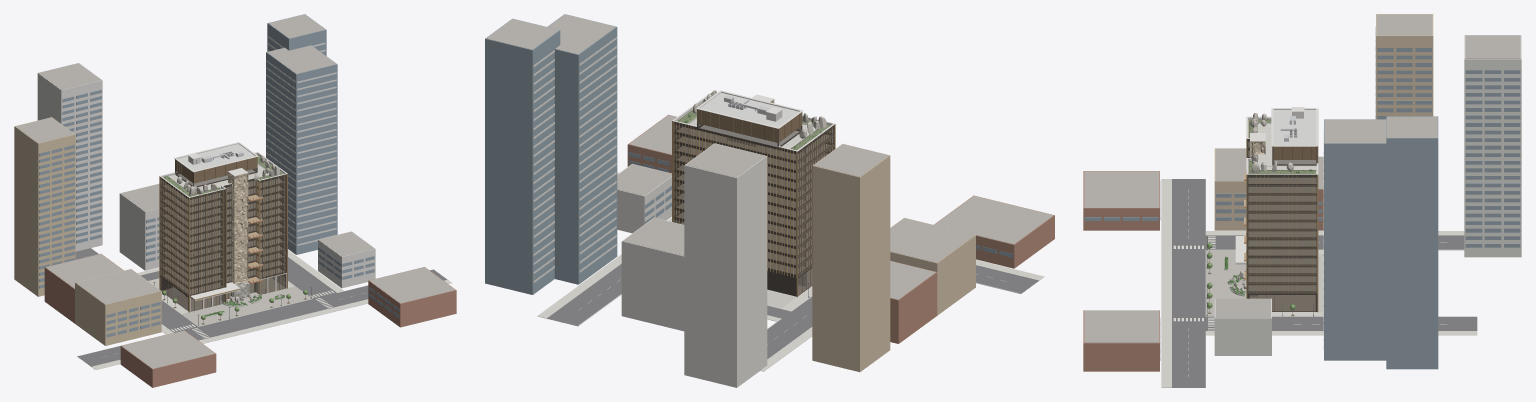
The model's file is clay-climbing-spine-clay-v007.glb.
The picture shows the model from 3 angles, left to right: view 1: azimuth 30°, elevation 25°; view 2: azimuth 150°, elevation 25°; view 3: azimuth 270°, elevation 25°; orthographic projection. The views are drawn at different scales.
Parts seen in each view (by area): view 1: CLAY_CTXGLASS, CLAY_WHITE, CLAY_CTXROOF, CLAY_TAN, CLAY_GLASS, CLAY_FLOOR, CLAY_BRONZE, CLAY_BRICK2, CLAY_ASPHALT, CLAY_SPANDREL, CLAY_FRAME, CLAY_PAVER (+7 smaller); view 2: CLAY_CTXGLASS, CLAY_WHITE, CLAY_TAN, CLAY_CTXROOF, CLAY_GLASS, CLAY_BRICK2, CLAY_FLOOR, CLAY_ASPHALT, CLAY_SPANDREL, CLAY_BRONZE, CLAY_FRAME, CLAY_PAVER (+3 smaller); view 3: CLAY_CTXGLASS, CLAY_CTXROOF, CLAY_WHITE, CLAY_ASPHALT, CLAY_GLASS, CLAY_FLOOR, CLAY_TAN, CLAY_BRICK2, CLAY_PAVER, CLAY_SPANDREL, CLAY_FRAME, CLAY_PLAZA (+7 smaller).
Part boxes in pixels (bbox=[...]): CLAY_CTXGLASS: bbox=[39, 14, 399, 337]; CLAY_WHITE: bbox=[37, 36, 375, 288]; CLAY_CTXROOF: bbox=[15, 14, 455, 368]; CLAY_TAN: bbox=[14, 117, 161, 345]; CLAY_GLASS: bbox=[160, 168, 286, 310]; CLAY_FLOOR: bbox=[162, 178, 285, 310]; CLAY_BRONZE: bbox=[159, 174, 287, 312]; CLAY_BRICK2: bbox=[44, 253, 456, 387]; CLAY_ASPHALT: bbox=[75, 248, 447, 366]; CLAY_SPANDREL: bbox=[160, 159, 286, 311]; CLAY_FRAME: bbox=[160, 171, 286, 311]; CLAY_PAVER: bbox=[92, 164, 451, 369]; CLAY_CTXGLASS: bbox=[485, 14, 1012, 294]; CLAY_WHITE: bbox=[533, 37, 767, 387]; CLAY_TAN: bbox=[812, 143, 975, 372]; CLAY_CTXROOF: bbox=[486, 14, 1053, 299]; CLAY_GLASS: bbox=[674, 123, 833, 294]; CLAY_BRICK2: bbox=[627, 114, 1054, 343]; CLAY_FLOOR: bbox=[677, 127, 830, 294]; CLAY_ASPHALT: bbox=[547, 202, 1038, 358]; CLAY_SPANDREL: bbox=[673, 112, 833, 296]; CLAY_BRONZE: bbox=[672, 121, 835, 297]; CLAY_FRAME: bbox=[674, 124, 834, 295]; CLAY_PAVER: bbox=[537, 119, 1044, 371]; CLAY_CTXGLASS: bbox=[1084, 27, 1520, 369]; CLAY_CTXROOF: bbox=[1084, 14, 1520, 342]; CLAY_WHITE: bbox=[1214, 35, 1521, 355]; CLAY_ASPHALT: bbox=[1172, 179, 1477, 387]; CLAY_GLASS: bbox=[1248, 141, 1316, 311]; CLAY_FLOOR: bbox=[1248, 141, 1316, 311]; CLAY_TAN: bbox=[1214, 14, 1433, 230]; CLAY_BRICK2: bbox=[1083, 171, 1323, 371]; CLAY_PAVER: bbox=[1161, 120, 1477, 387]; CLAY_SPANDREL: bbox=[1247, 139, 1317, 311]; CLAY_FRAME: bbox=[1248, 156, 1317, 311]; CLAY_PLAZA: bbox=[1206, 250, 1255, 316].
Size of the model in its own units: 190 by 98.06 by 168.
